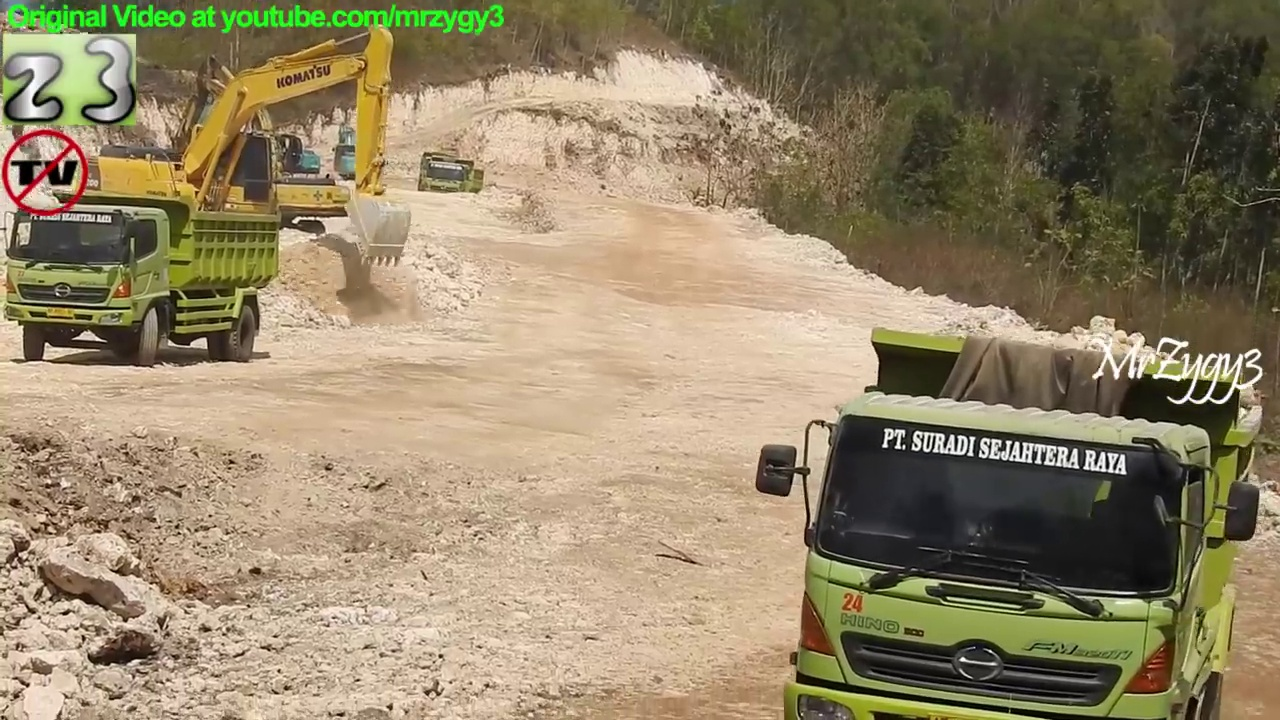excavator: (43, 20, 413, 272), (147, 52, 355, 250), (177, 71, 326, 209), (327, 103, 392, 189)
truck: (750, 321, 1267, 720), (2, 189, 282, 368), (415, 147, 467, 200), (430, 154, 484, 202)
